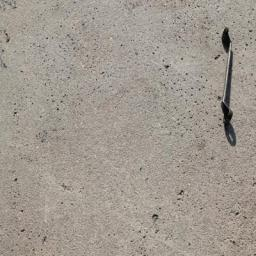FOD: (221, 27, 239, 129)
